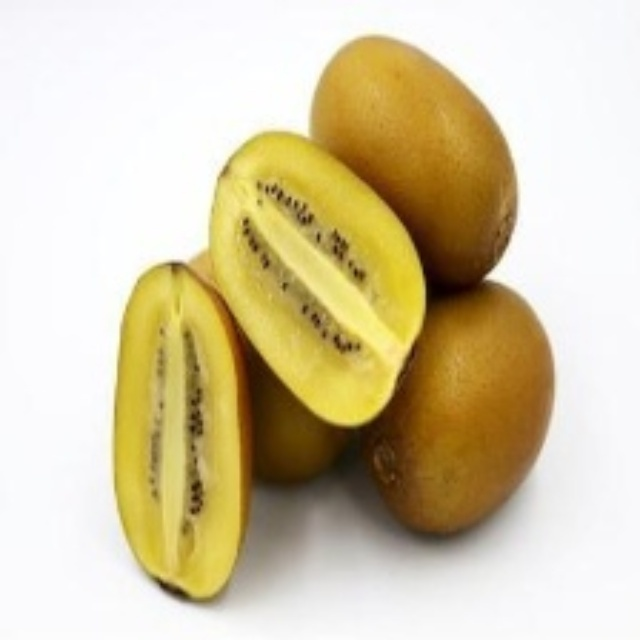kiwi: (199, 131, 444, 434), (112, 257, 259, 608), (312, 39, 518, 274), (394, 286, 557, 557)
